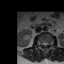CCS_normal: (44, 41, 46, 48)
LFS_normal: (48, 41, 50, 46)
LLS_stenosis: (46, 41, 48, 47)
RFS_stenosis: (40, 41, 42, 46)
RLS_stenosis: (42, 41, 44, 47)
